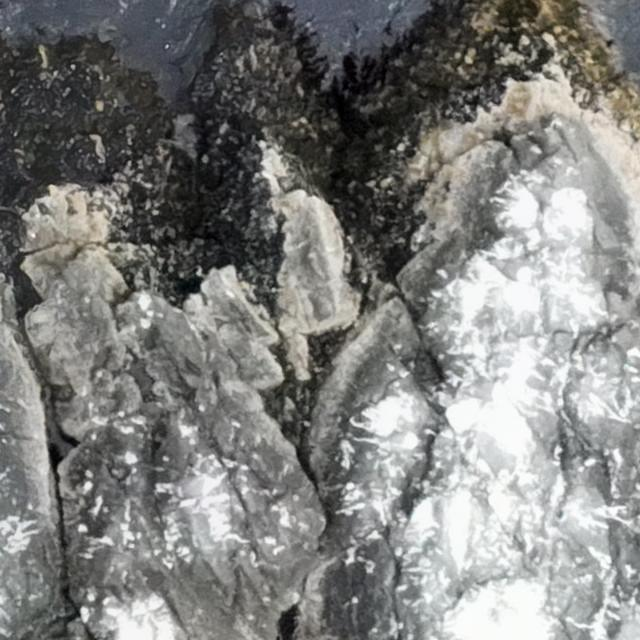umineko: (490, 256, 533, 282), (166, 478, 219, 498), (466, 382, 506, 402), (376, 432, 419, 448)
